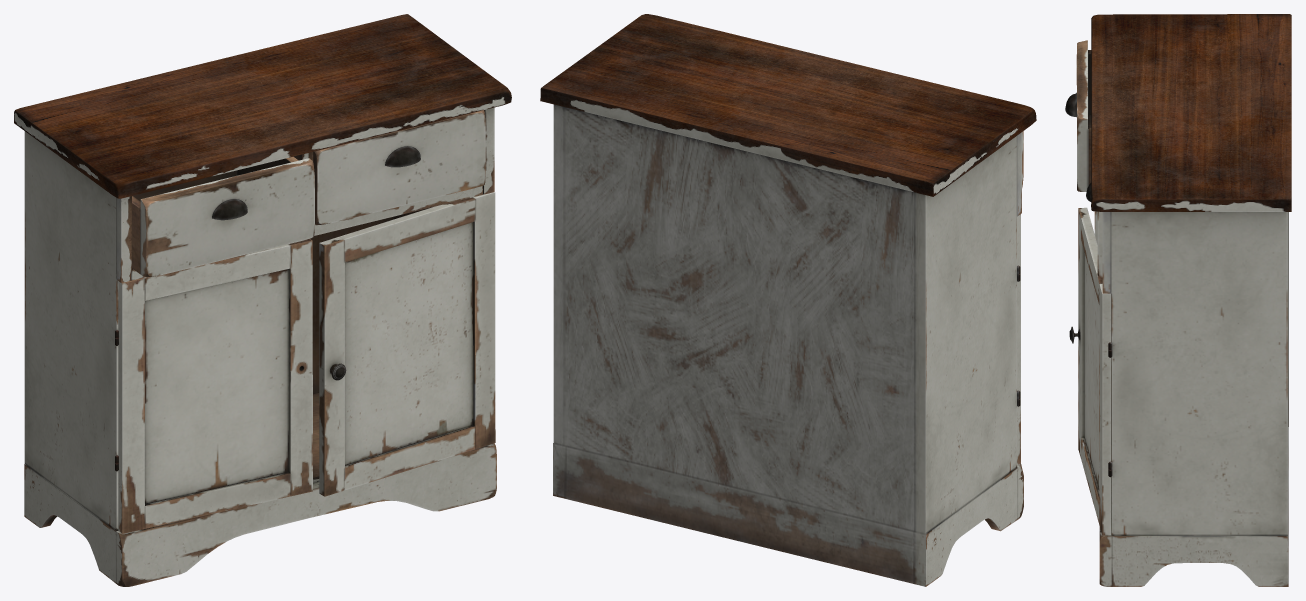
Rendered from kitchen_table.obj.
The picture shows the model from 3 angles, left to right: view 1: azimuth 30°, elevation 25°; view 2: azimuth 150°, elevation 25°; view 3: azimuth 270°, elevation 25°; orthographic projection. The views are drawn at different scales.
Visible parts, largest first — view 1: painted_wooden_cabinet, painted_wooden_cabinet_door_01, painted_wooden_cabinet_door_02, painted_wooden_cabinet_drawer_01, painted_wooden_cabinet_drawer_02; view 2: painted_wooden_cabinet, painted_wooden_cabinet_door_01; view 3: painted_wooden_cabinet, painted_wooden_cabinet_door_02, painted_wooden_cabinet_drawer_01, painted_wooden_cabinet_drawer_02.
Boxes of the visible parts, x1,y1,x2,y2 form: painted_wooden_cabinet: (14,14,511,586); painted_wooden_cabinet_door_01: (118,238,312,533); painted_wooden_cabinet_door_02: (319,192,495,496); painted_wooden_cabinet_drawer_01: (132,156,314,277); painted_wooden_cabinet_drawer_02: (313,110,485,224); painted_wooden_cabinet: (540,14,1036,586); painted_wooden_cabinet_door_01: (1017,214,1020,465); painted_wooden_cabinet: (1091,14,1291,586); painted_wooden_cabinet_door_02: (1069,207,1110,535); painted_wooden_cabinet_drawer_01: (1065,40,1091,191); painted_wooden_cabinet_drawer_02: (1086,183,1102,277).
Size of the model in its own units: 1.19 by 1.18 by 0.6166.
